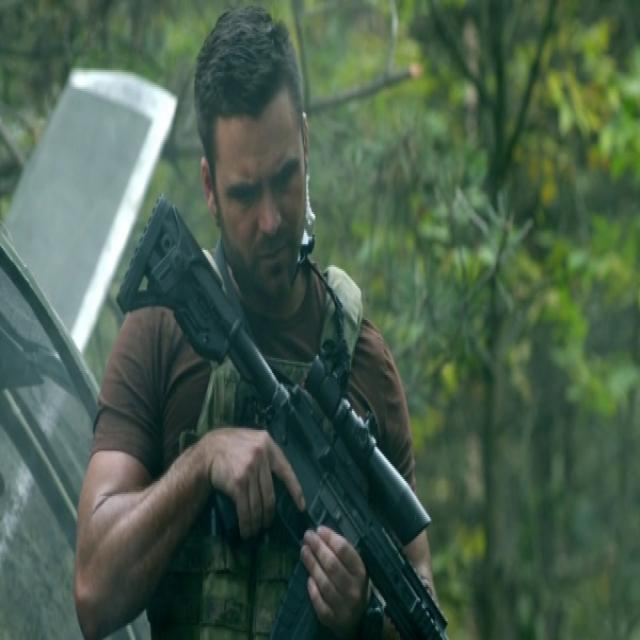rifle: (116, 177, 454, 640)
